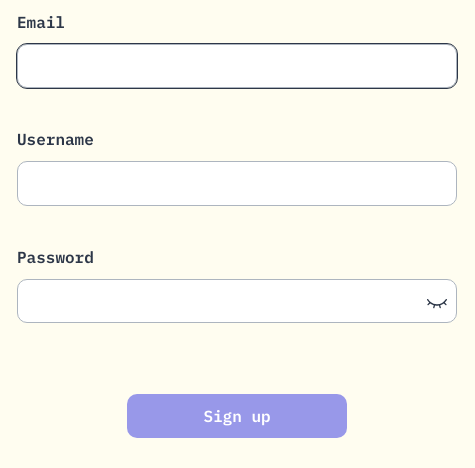
Test: Given the Register Form › When the user writes on all form fields and they are valid › Then it should enable de Sign up button
This screenshot has width=475, height=468.
Type "test@test.com" into the field labelled "Email" at (237,66), box [17,44,457,88]
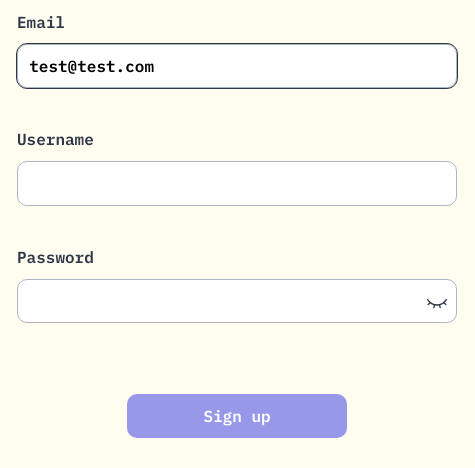
Type "User1234" into the field labelled "Username" at (237,184), box [17,161,457,206]
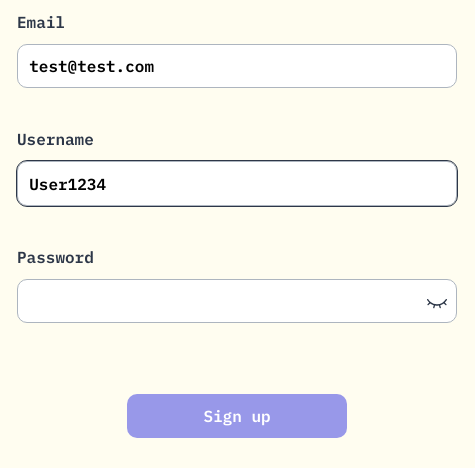
Type "test1234@" into the password field labelled "Password" at (237,301), box [17,279,457,323]
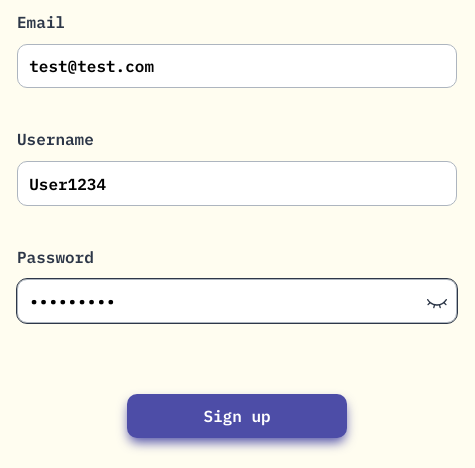
Now the button "Sign up" is enabled, box [127,394,347,438]
